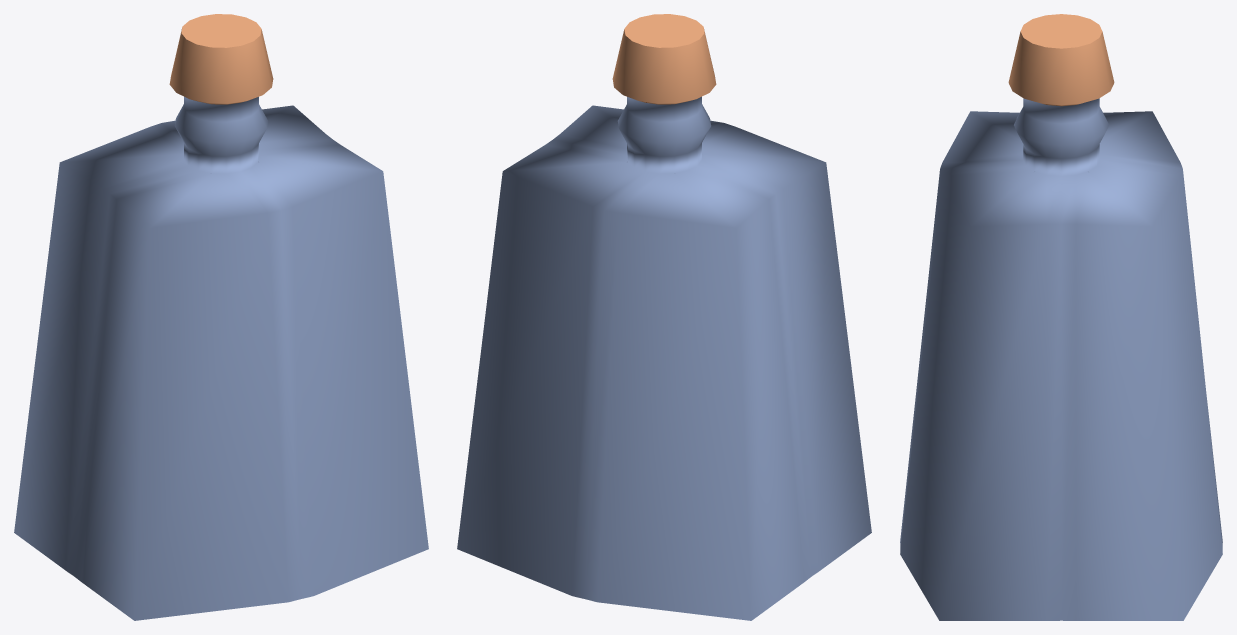
File: BAR_LiqourBottle03_Body.fbx
3 renders of one model, left to right at view 1: azimuth 30°, elevation 25°; view 2: azimuth 150°, elevation 25°; view 3: azimuth 270°, elevation 25°, orthographic.
Visible parts, largest first — view 1: Bottle03_Body; view 2: Bottle03_Body; view 3: Bottle03_Body.
Part boxes in pixels (bbox=[...]): Bottle03_Body: bbox=[14, 14, 428, 620]; Bottle03_Body: bbox=[457, 14, 871, 620]; Bottle03_Body: bbox=[900, 14, 1222, 620].
Size of the model in its own units: 12.22 by 20.23 by 11.45.
